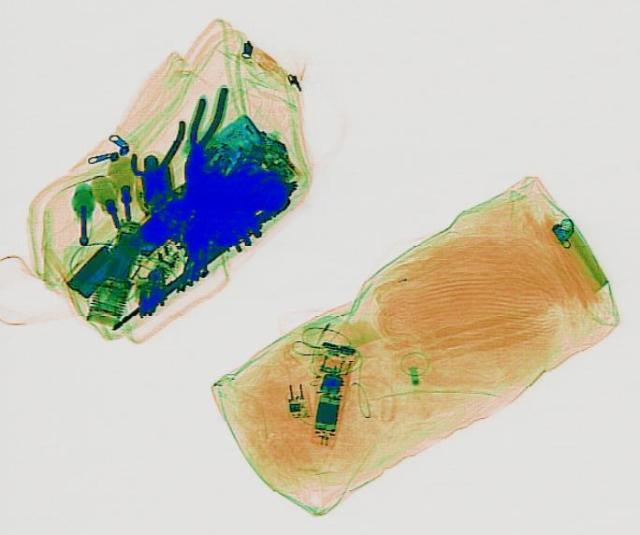Pliers: (174, 83, 228, 179)
